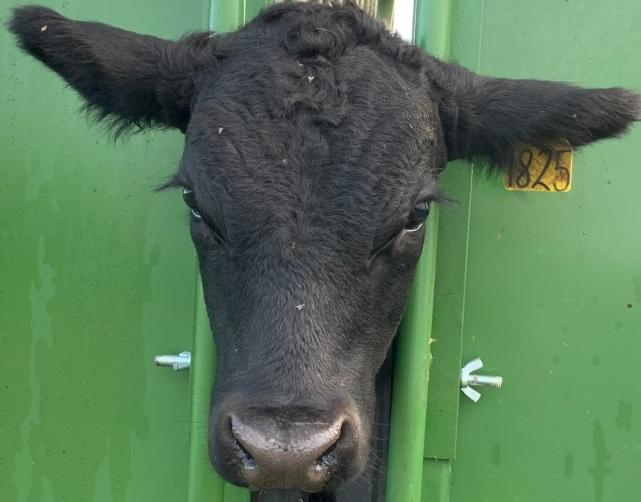muzzles: (201, 397, 373, 496)
